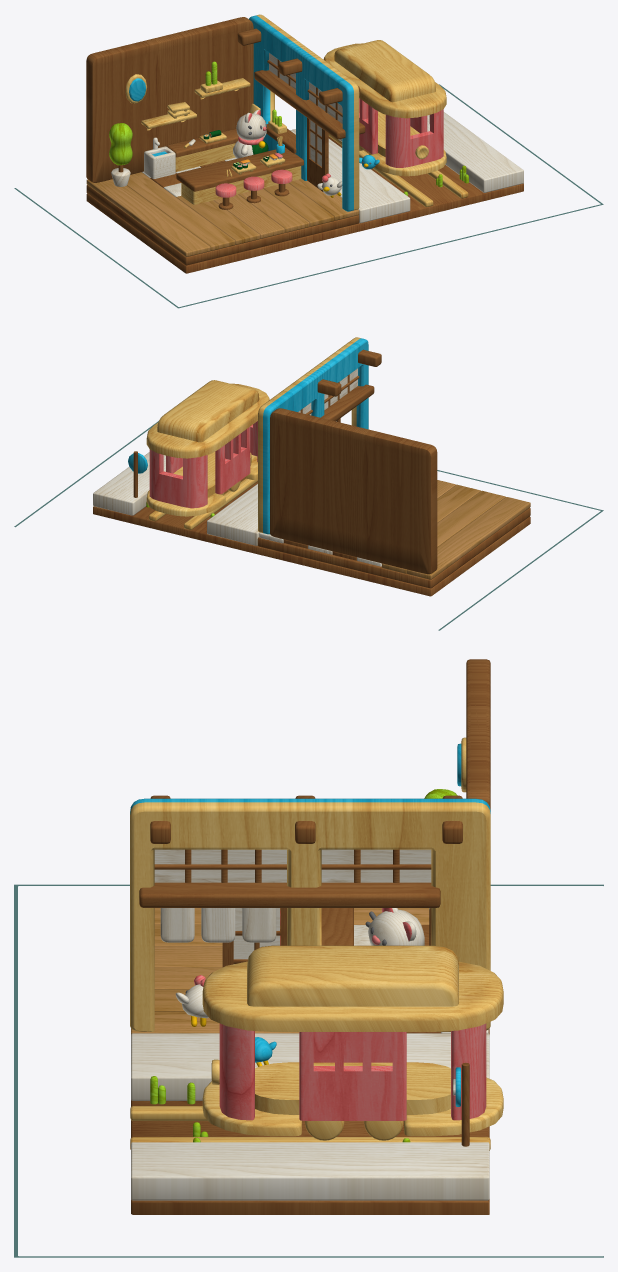
Rendered from modelNew 1.fbx.
3 views of the same model, one above another, from view 1: azimuth 30°, elevation 25°; view 2: azimuth 150°, elevation 25°; view 3: azimuth 270°, elevation 25° (orthographic). The views are drawn at different scales.
Visible parts, largest first — view 1: sushi_09 - Default_0, sushi_01 - Default_0, sushi_07 - Default_0, sushi_02 - Default_0, sushi_08 - Default_0, sushi_19 - Default_0, sushi_Material #4819_0, sushi_13 - Default_0; view 2: sushi_09 - Default_0, sushi_01 - Default_0, sushi_07 - Default_0, sushi_19 - Default_0, sushi_02 - Default_0, sushi_08 - Default_0, sushi_Material #4819_0; view 3: sushi_01 - Default_0, sushi_02 - Default_0, sushi_09 - Default_0, sushi_19 - Default_0, sushi_07 - Default_0, sushi_Material #4819_0, sushi_08 - Default_0, sushi_13 - Default_0.
Part boxes in pixels (x1,y1,x2,y2): sushi_09 - Default_0: (86, 17, 523, 273); sushi_01 - Default_0: (125, 14, 468, 210); sushi_07 - Default_0: (86, 172, 359, 256); sushi_02 - Default_0: (111, 53, 523, 223); sushi_08 - Default_0: (129, 15, 379, 211); sushi_19 - Default_0: (215, 98, 443, 197); sushi_Material #4819_0: (14, 84, 603, 308); sushi_13 - Default_0: (109, 61, 468, 195); sushi_09 - Default_0: (93, 349, 530, 596); sushi_01 - Default_0: (146, 337, 360, 532); sushi_07 - Default_0: (382, 480, 530, 579); sushi_19 - Default_0: (149, 421, 257, 508); sushi_02 - Default_0: (93, 368, 381, 566); sushi_08 - Default_0: (128, 338, 368, 534); sushi_Material #4819_0: (14, 421, 603, 630); sushi_01 - Default_0: (130, 737, 503, 1150); sushi_02 - Default_0: (131, 849, 489, 1200); sushi_09 - Default_0: (131, 659, 490, 1214); sushi_19 - Default_0: (194, 908, 486, 1120); sushi_07 - Default_0: (131, 908, 429, 1034); sushi_Material #4819_0: (14, 884, 603, 1257); sushi_08 - Default_0: (130, 743, 490, 1106); sushi_13 - Default_0: (150, 789, 457, 1142).
Bounding box in the file's own units: 33365 × 11031 × 22291.
